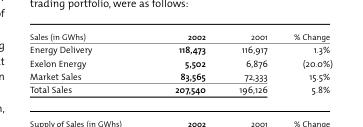table: (29, 29, 331, 96)
table column: (29, 29, 132, 96), (132, 29, 221, 96), (221, 29, 279, 96), (279, 29, 331, 96)
table column header: (29, 29, 331, 42)
table row: (29, 68, 331, 82), (29, 82, 331, 96), (29, 29, 331, 42), (29, 42, 331, 55), (29, 55, 331, 68)
